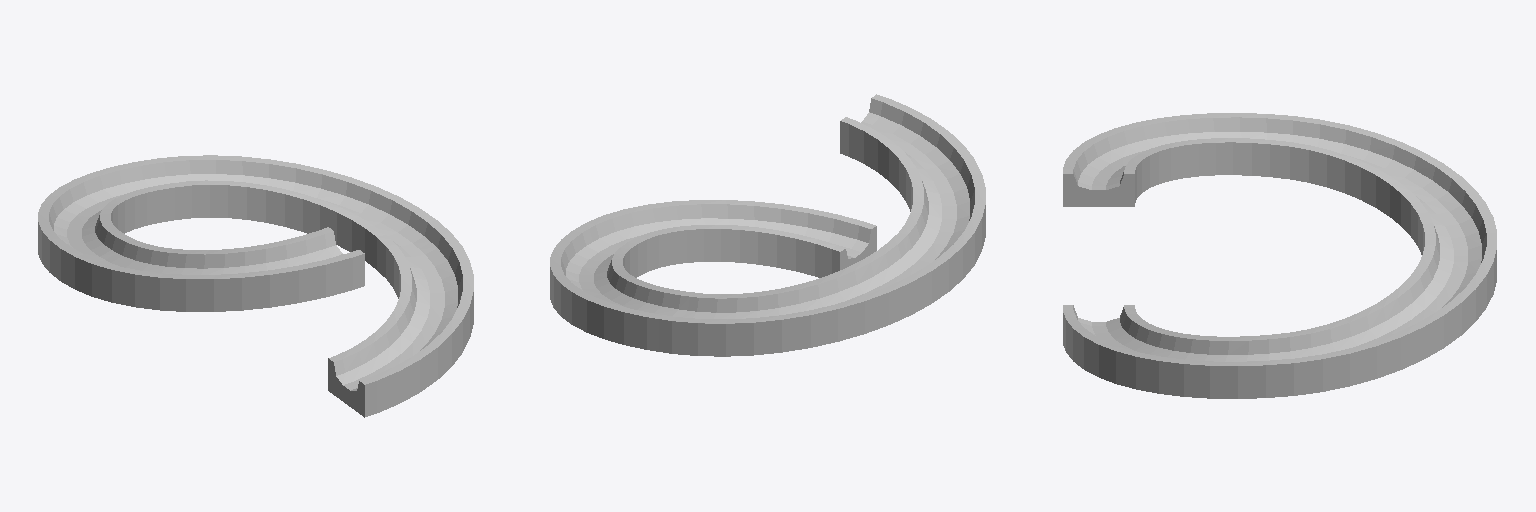
Rendered from helix-large-left.obj.
The picture shows the model from 3 angles: view 1: azimuth 30°, elevation 25°; view 2: azimuth 150°, elevation 25°; view 3: azimuth 270°, elevation 25°; orthographic projection.
Parts seen in each view (by area): view 1: helix-large-left; view 2: helix-large-left; view 3: helix-large-left.
Part boxes in pixels (x1,y1,x2,y2): helix-large-left: (38, 155, 473, 417); helix-large-left: (550, 94, 985, 356); helix-large-left: (1063, 113, 1496, 398).
Bounding box in the file's own units: 6 × 2.5 × 6.